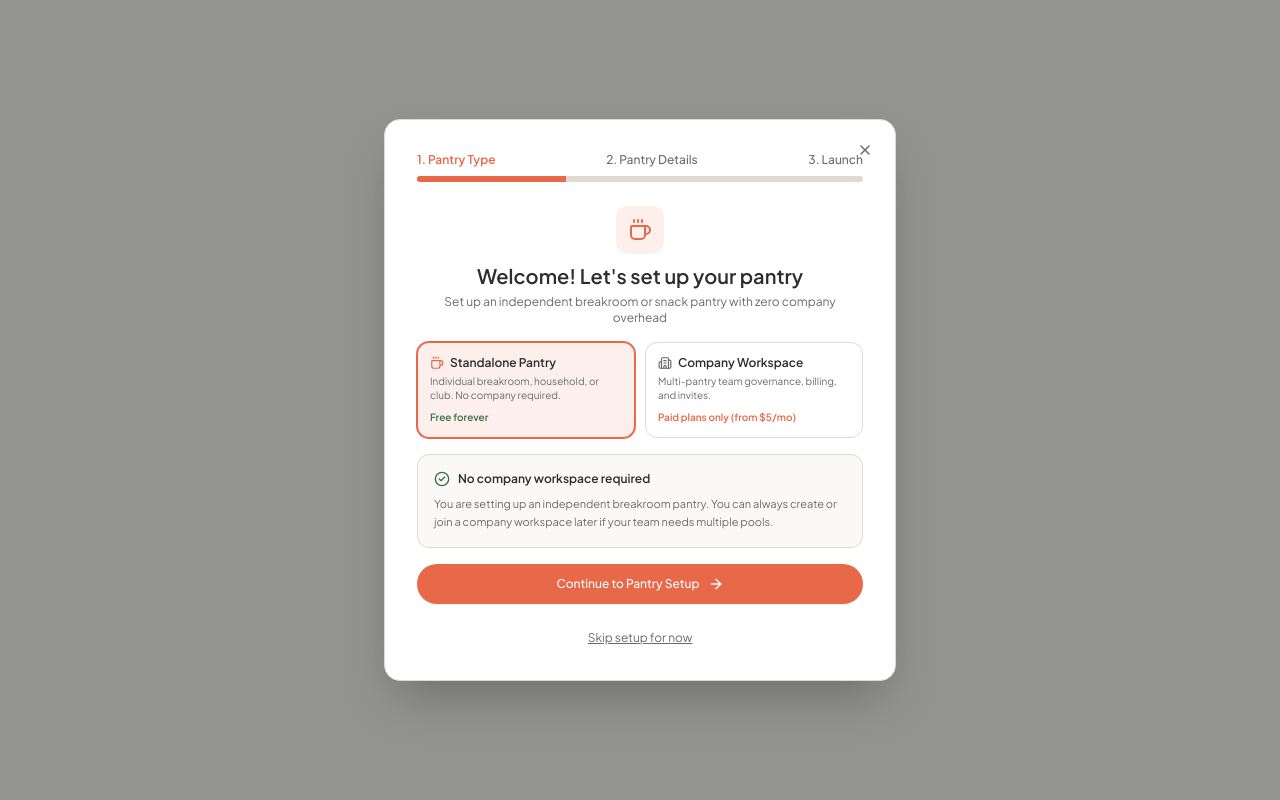
Test: OnboardingWizardModal - Optional Company Creation › allows user to switch to company workspace and provides "Skip company setup" option
The image size is (1280, 800).
# Switch to Company Workspace
Click the button "Company Workspace".
click(754, 390)  # box [645,342,863,438]
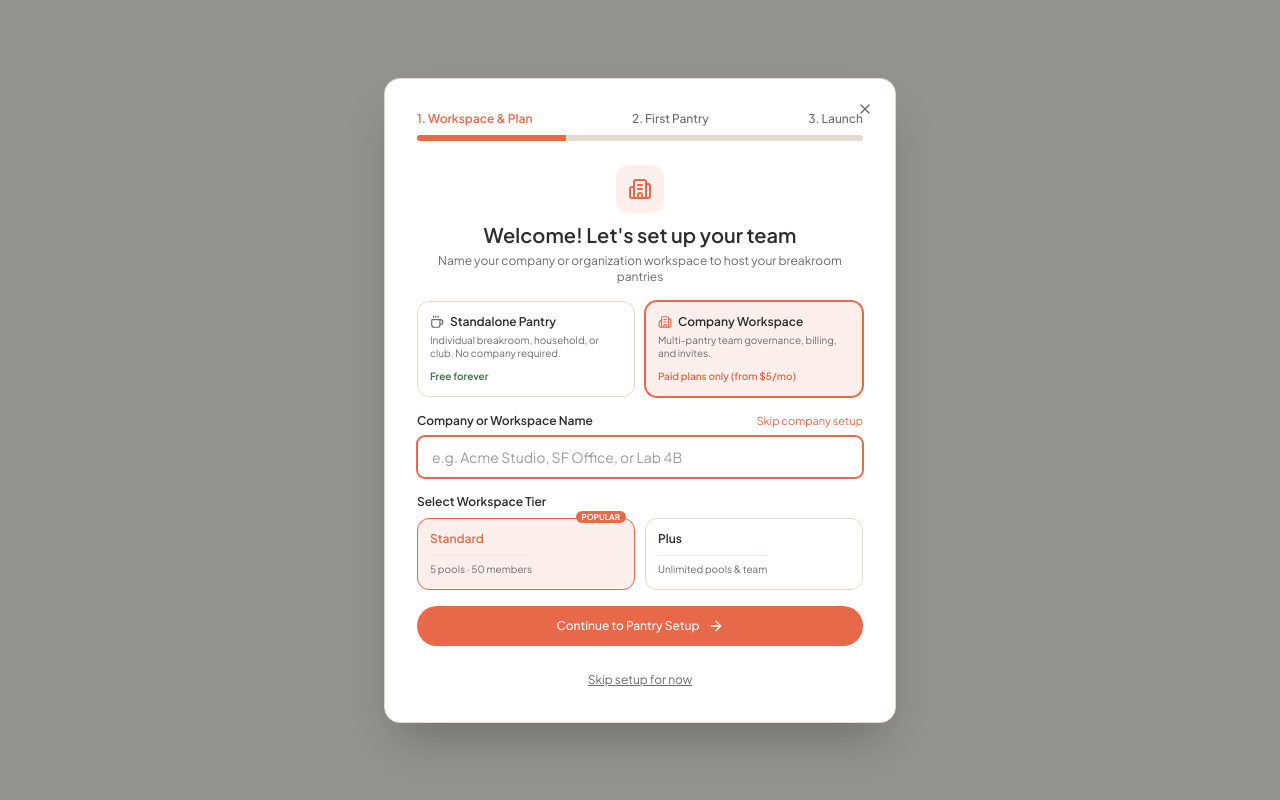
Check: the field with placeholder "e.g. Acme Studio, SF Office, or Lab 4B" is shown, box [417,436,863,478]
Check: the button "Skip company setup" is shown
Check: the button "Popular Standard 5 pools · 50 members" is shown, box [417,518,635,590]
# Clicking "Skip company setup" switches back to standalone pantry
Click the button "Skip company setup".
click(810, 421)  # box [756,413,863,430]
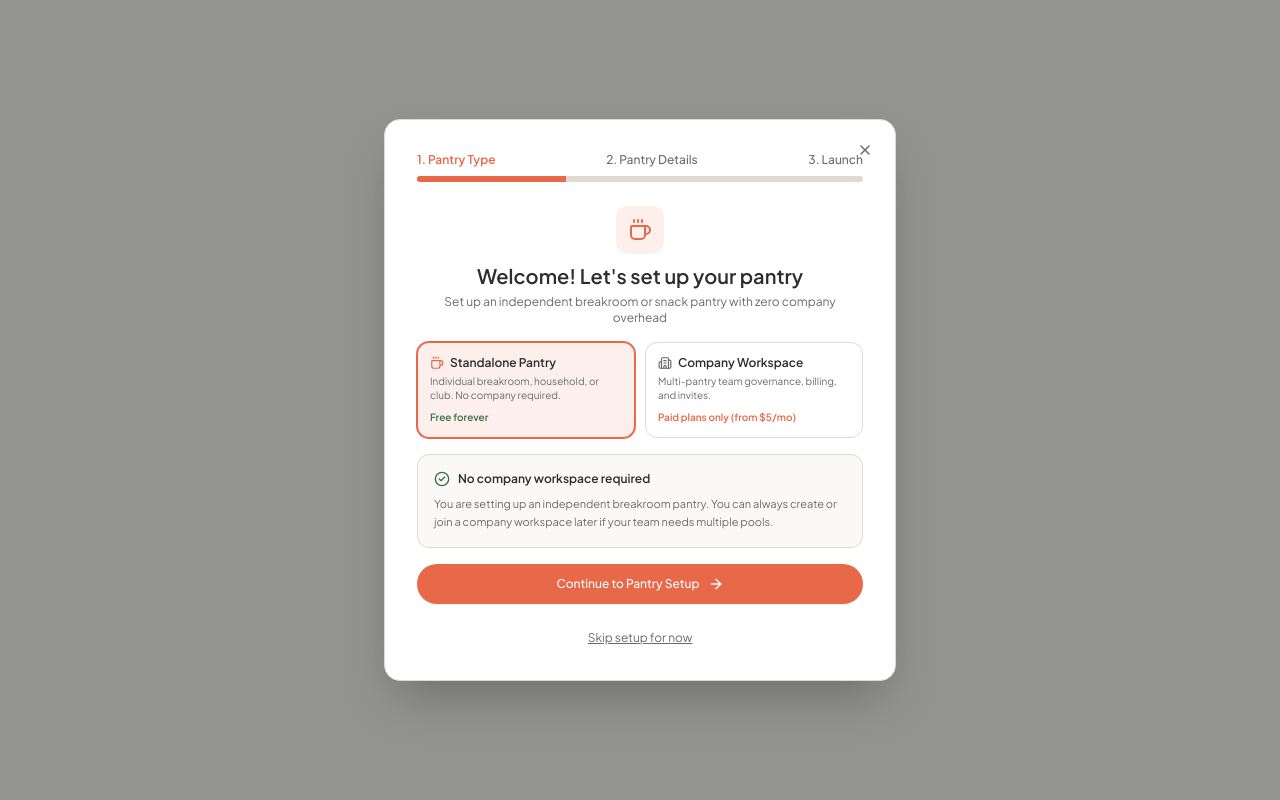
Check: the field with placeholder "e.g. Acme Studio" is not shown
Check: the text "No company workspace required" is shown, box [458,471,650,487]
